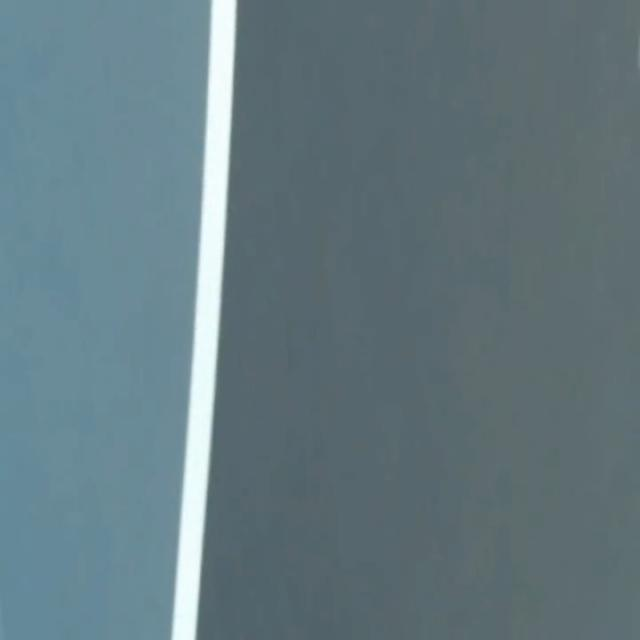left: (171, 0, 236, 639)
